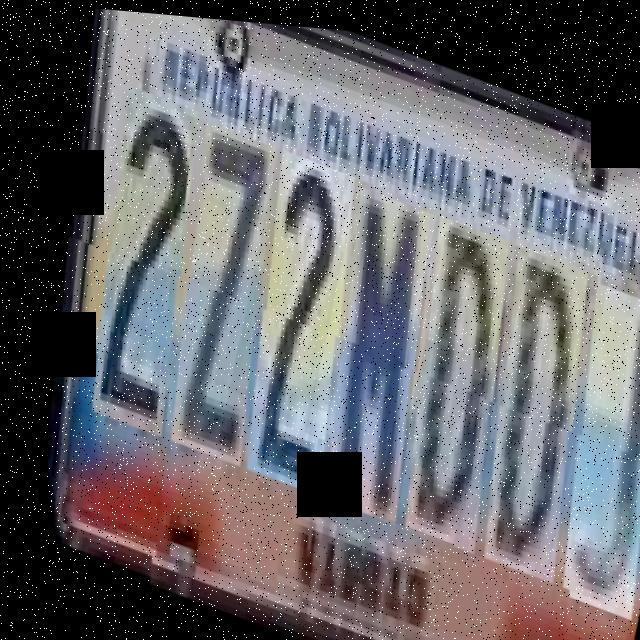2: (23, 82, 243, 446), (179, 137, 398, 496)
D: (338, 201, 550, 551), (416, 229, 628, 579)
J: (494, 257, 640, 606)
M: (259, 172, 472, 522)
Z: (104, 110, 321, 467)
